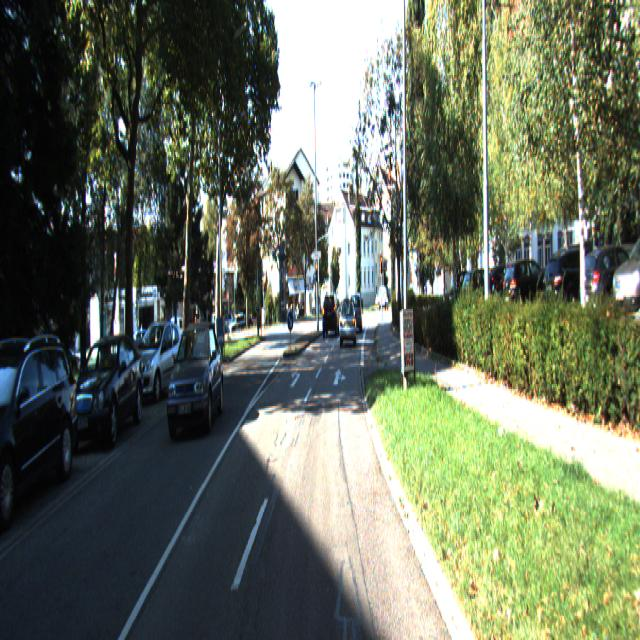Car: (0, 338, 83, 542), (66, 333, 145, 452), (166, 324, 224, 438), (129, 321, 186, 405), (339, 301, 356, 346)
DontCare: (449, 229, 639, 347), (321, 293, 338, 338), (229, 313, 247, 331), (378, 284, 390, 308)
